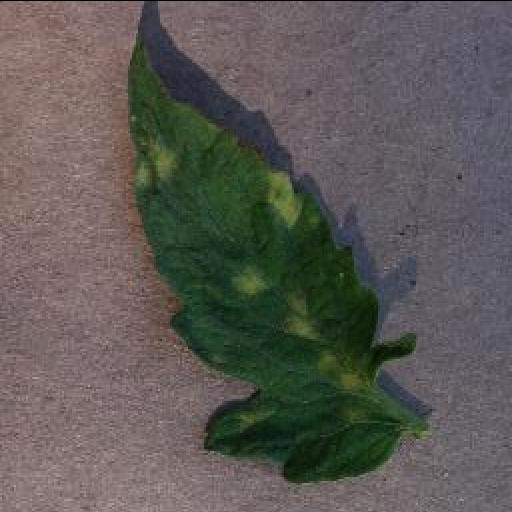disease_tomato: (125, 42, 415, 480)
